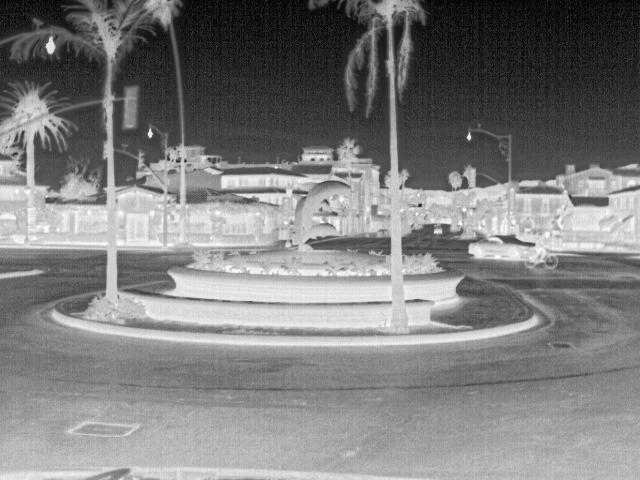car: (465, 232, 541, 261), (431, 224, 445, 237)
person: (531, 238, 547, 266)
